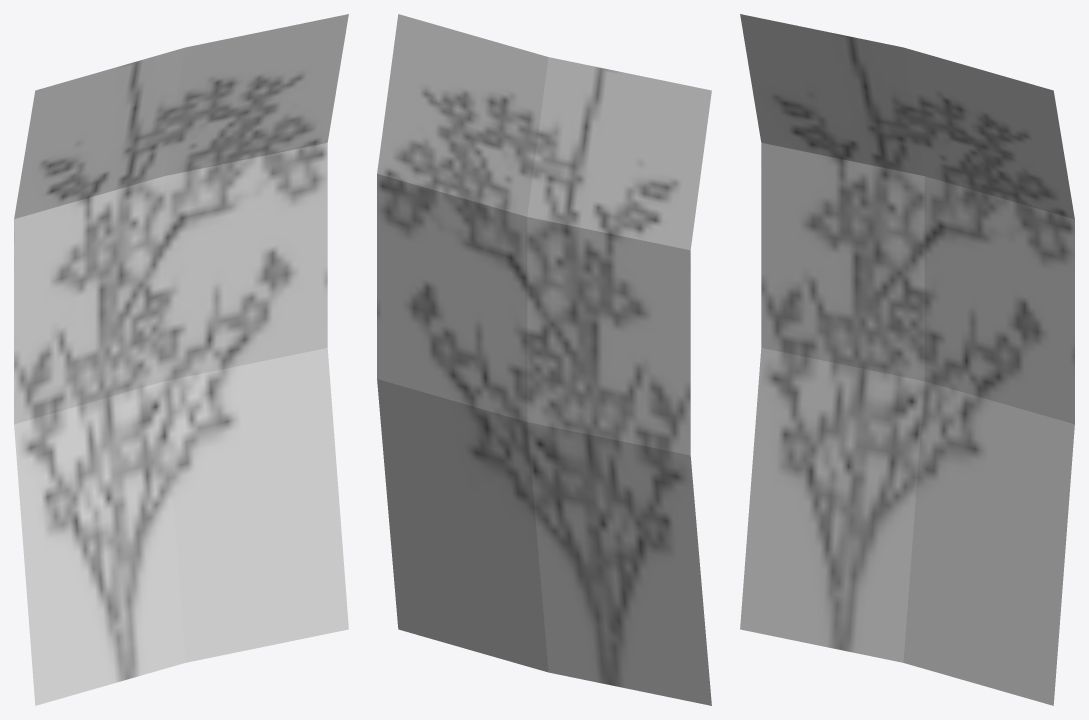
The model's file is Matorral2.fbx.
3 views of the same model, side by side, from view 1: azimuth 30°, elevation 25°; view 2: azimuth 150°, elevation 25°; view 3: azimuth 330°, elevation 25° (orthographic).
Visible parts, largest first — view 1: Plane; view 2: Plane; view 3: Plane.
Part boxes in pixels (x1,y1,x2,y2): Plane: [14, 14, 348, 705]; Plane: [377, 14, 711, 705]; Plane: [740, 14, 1074, 705].
Size of the model in its own units: 1.6 by 3 by 0.2456.
Materials: 1 (1 with a texture image).
